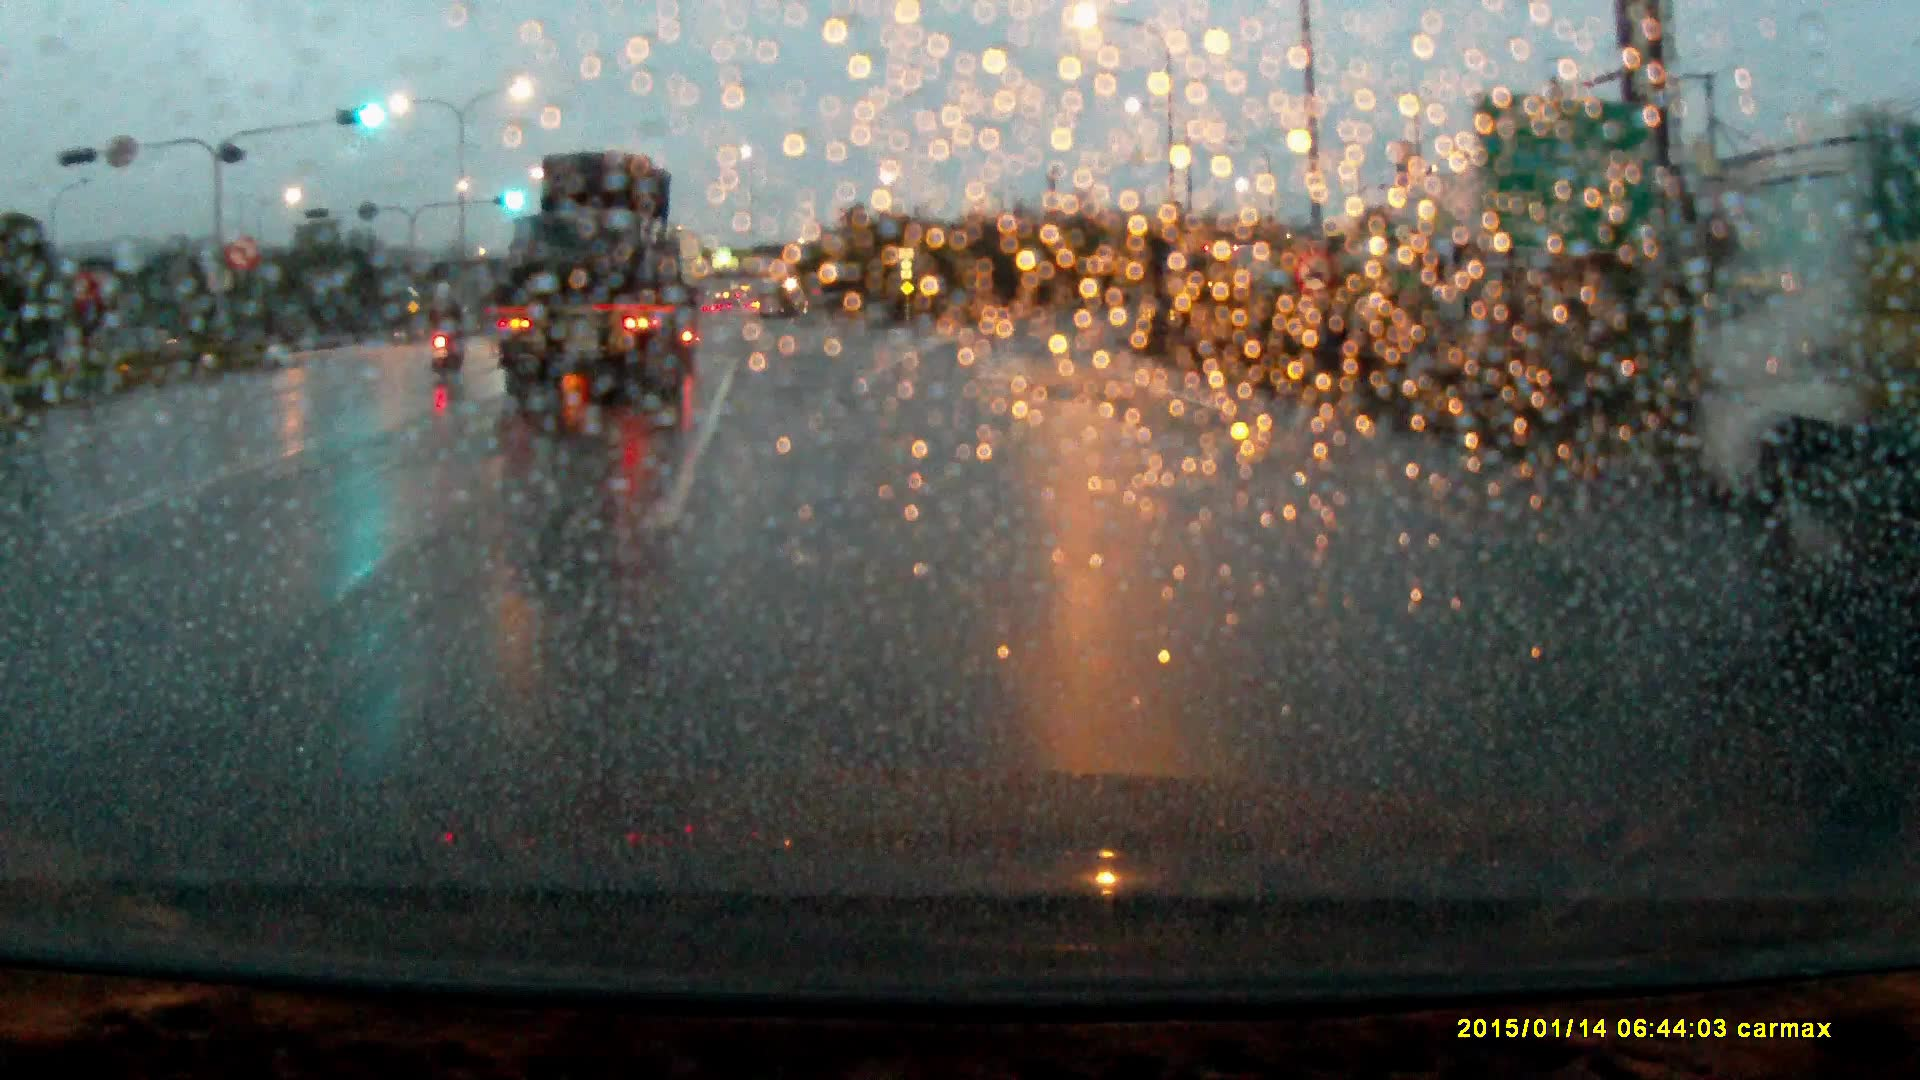rider: (416, 283, 467, 393)
vehicle: (1699, 129, 1920, 574), (494, 147, 701, 409)
